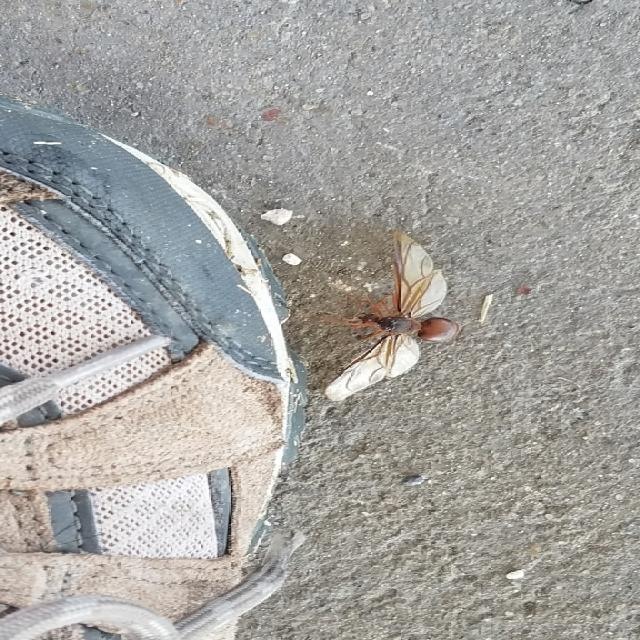Dead-Male-Alate: (323, 230, 461, 402)
